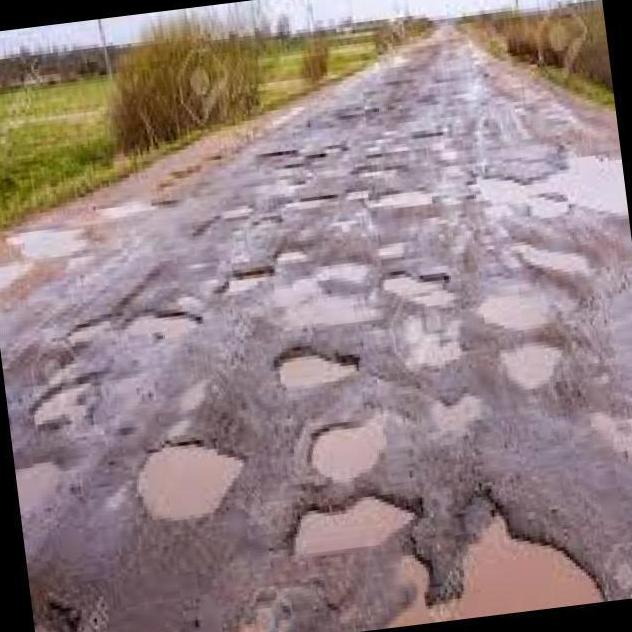pothole: (440, 487, 608, 610), (126, 436, 251, 535), (477, 275, 599, 329), (308, 419, 397, 487), (280, 511, 404, 558), (357, 264, 459, 311), (29, 379, 124, 429), (486, 342, 573, 395), (283, 349, 361, 392), (120, 306, 209, 340), (213, 265, 277, 300), (376, 192, 442, 211), (346, 162, 406, 179), (288, 197, 341, 212), (274, 250, 317, 266), (263, 145, 298, 163), (298, 151, 337, 164), (408, 131, 446, 140)
